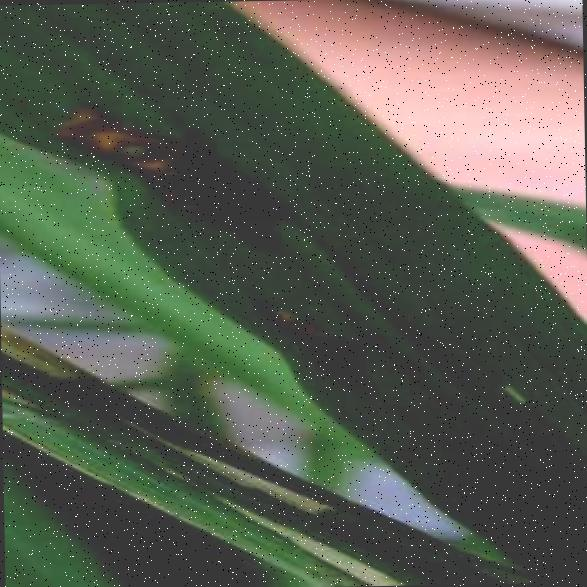Leaf_smut: (61, 102, 279, 262), (248, 274, 378, 408)
